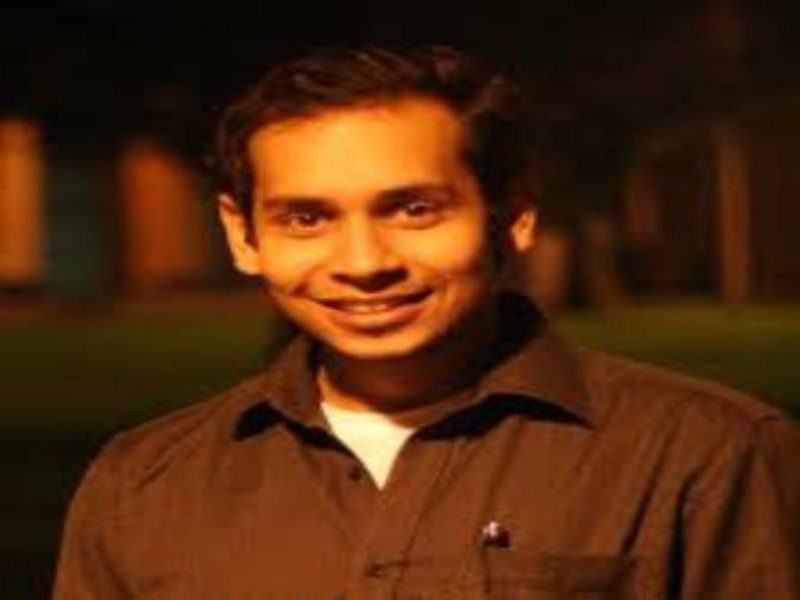TsisyArotava: (204, 64, 550, 380)
